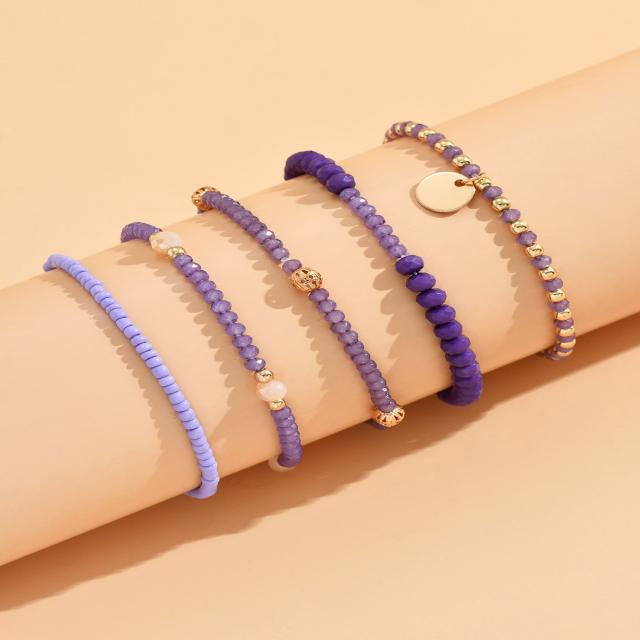bracelet: (0, 54, 640, 555)
